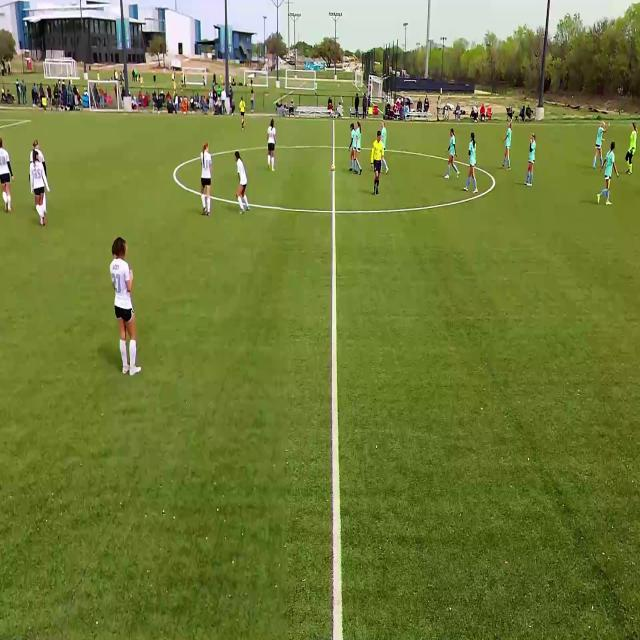ball: (330, 162, 336, 172)
team1: (598, 142, 616, 206), (466, 130, 481, 198), (447, 128, 460, 182), (526, 133, 538, 190), (594, 121, 607, 171), (504, 120, 514, 169), (356, 121, 364, 175), (349, 119, 355, 174), (381, 119, 388, 146)
team2: (111, 238, 144, 380), (30, 143, 53, 230), (199, 140, 215, 216), (1, 141, 15, 216), (234, 152, 251, 212), (267, 118, 279, 172)
